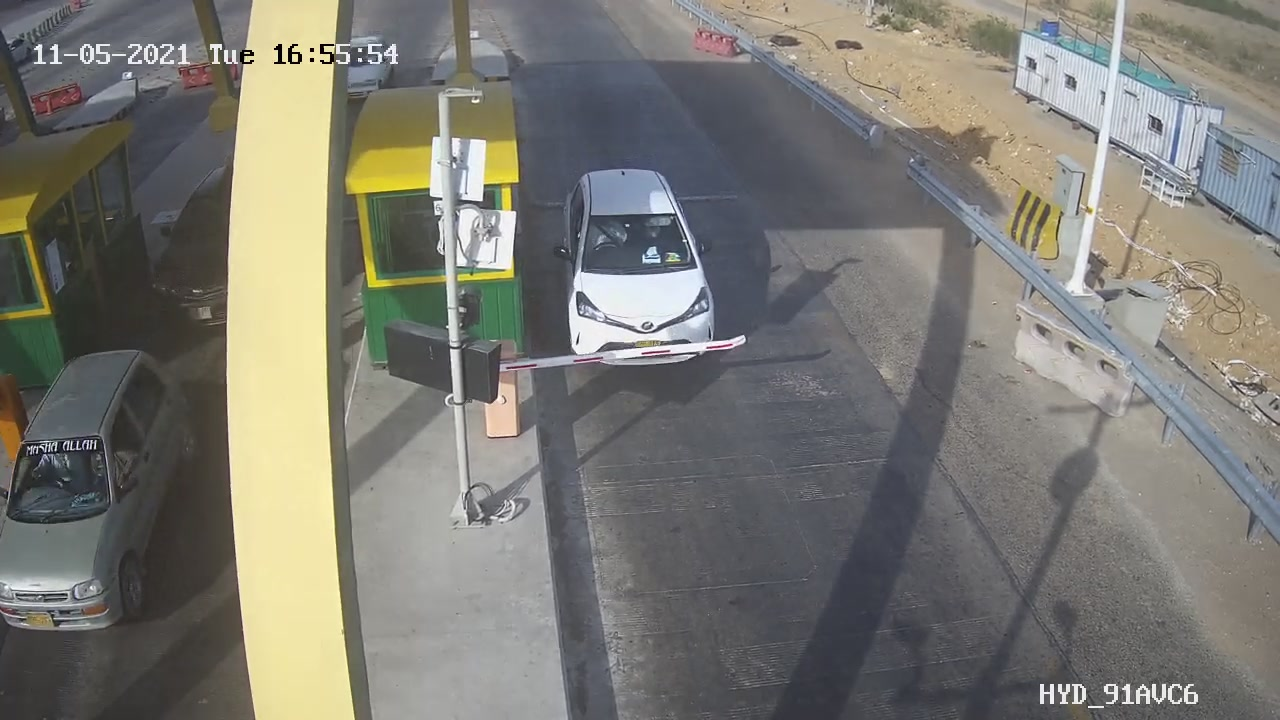F1: (540, 152, 735, 387)
